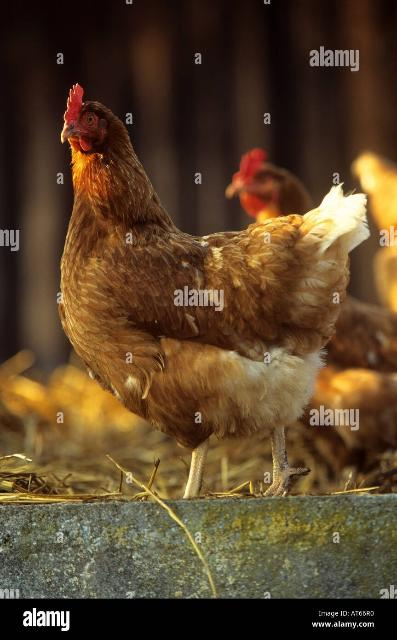Chicken: (57, 79, 371, 503)
